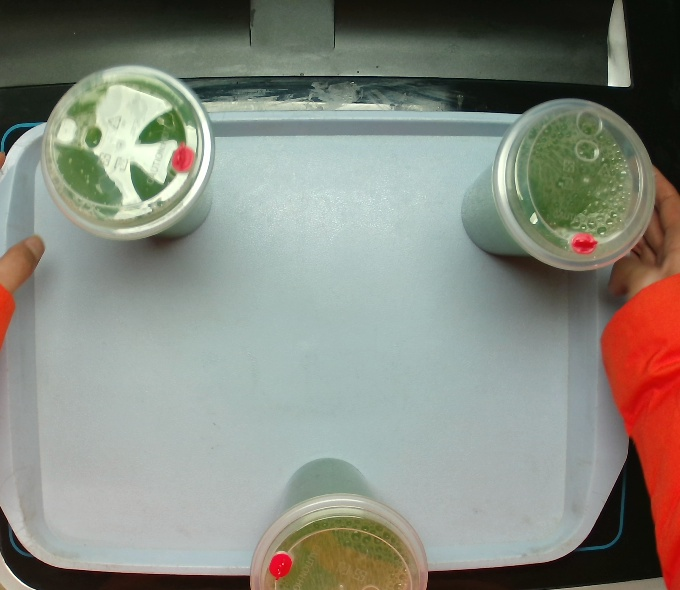wcq-HuangGuaZhi: (458, 95, 658, 273), (39, 62, 217, 243), (242, 457, 431, 590)
